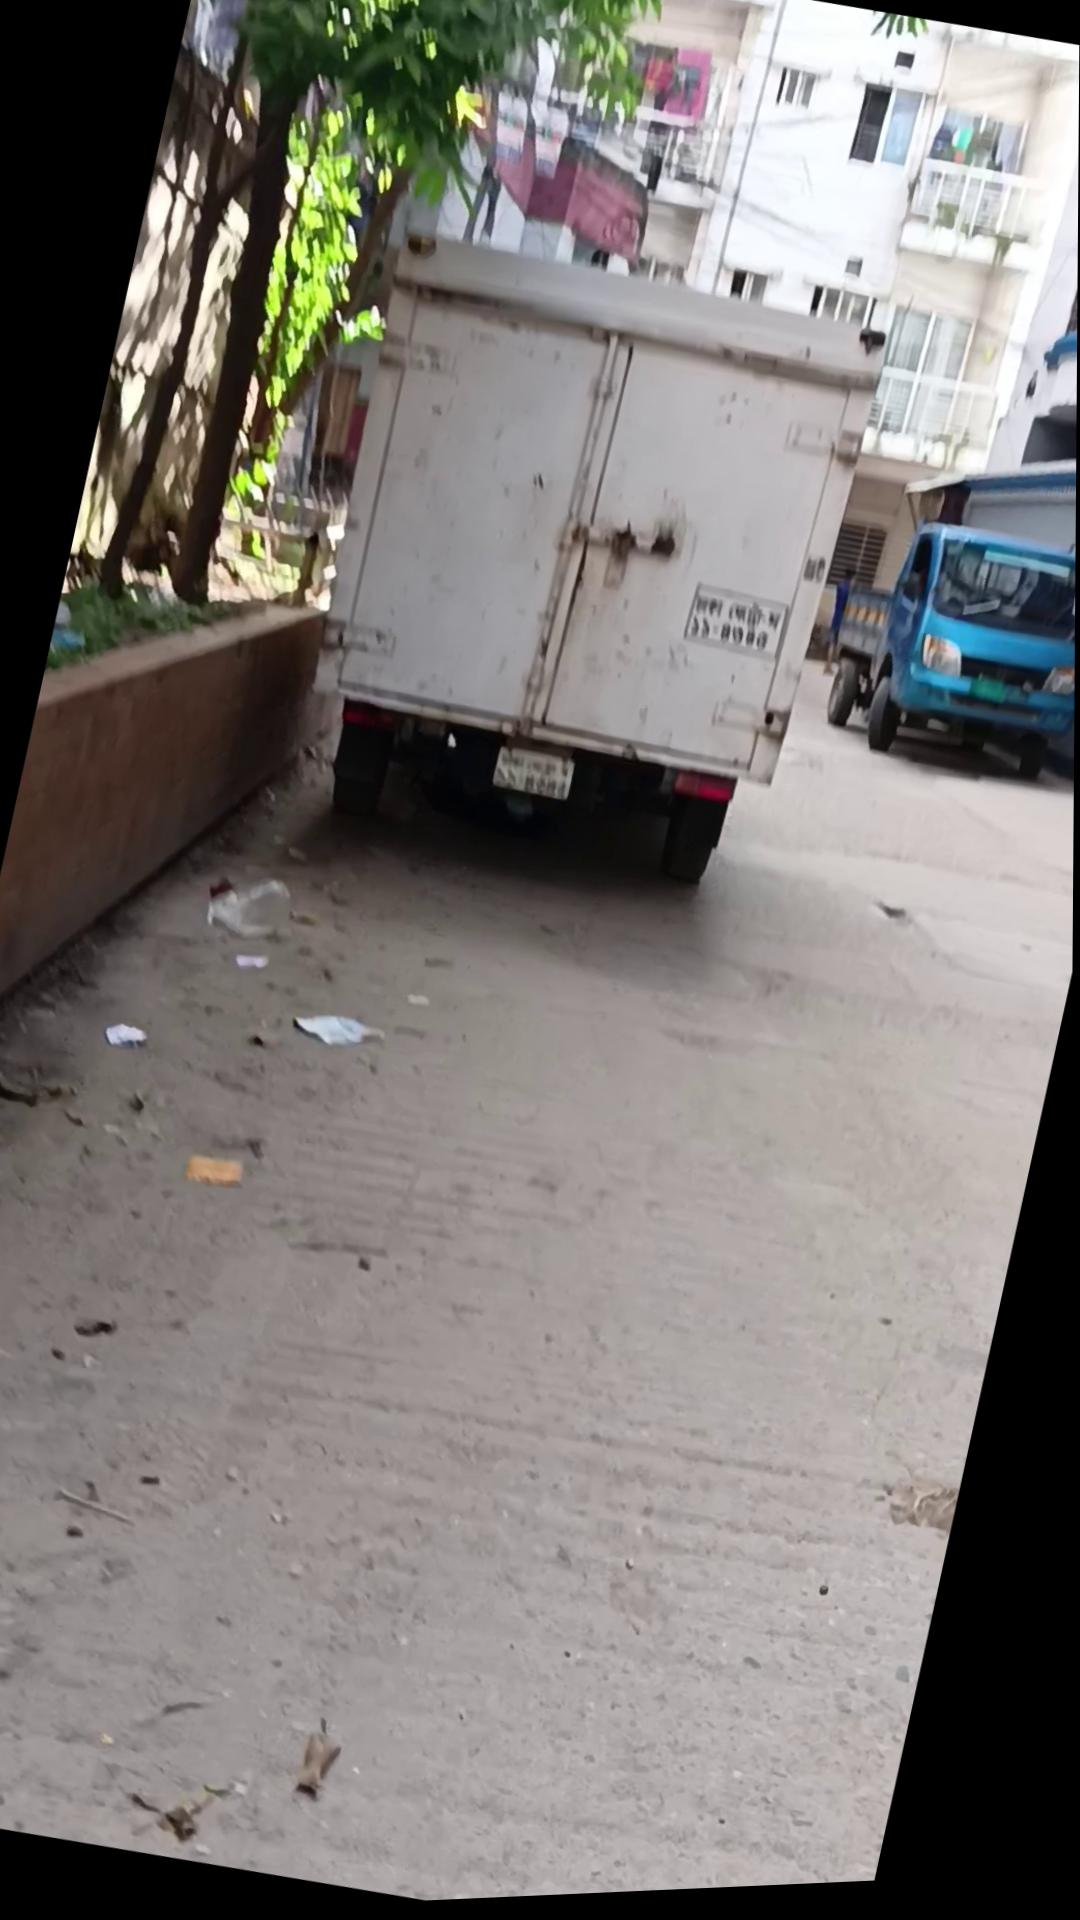Muddy road: (818, 572, 858, 684)
Traffic-sign: (272, 211, 897, 920), (807, 508, 1077, 806)
Tree: (0, 550, 336, 1083)
